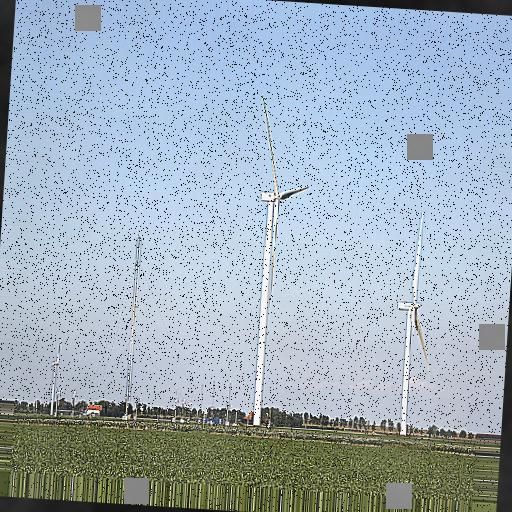wind turbine: (252, 104, 310, 434), (395, 213, 430, 438)
